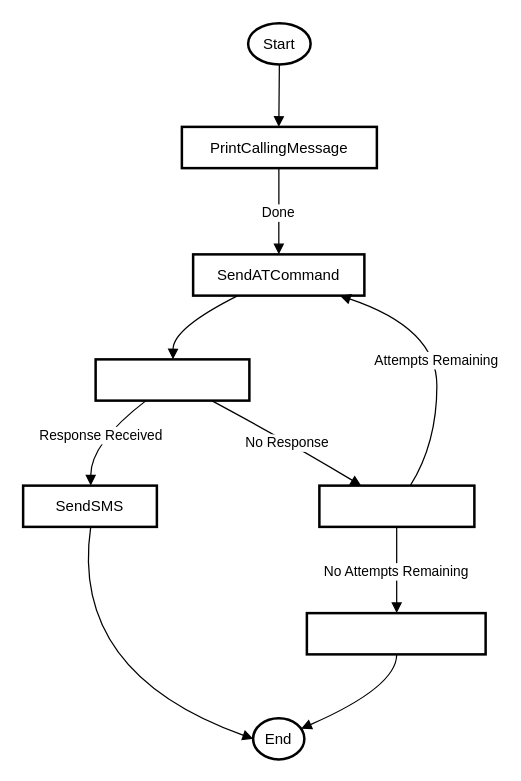
Some shapes in this 521 by 781 pixel diagram are drawn without their labels. Each missing label, with the centre of its shape:
CheckResponse: point (172, 379)
PrintErrorMessage: point (395, 633)
RetryCommand: point (396, 506)
